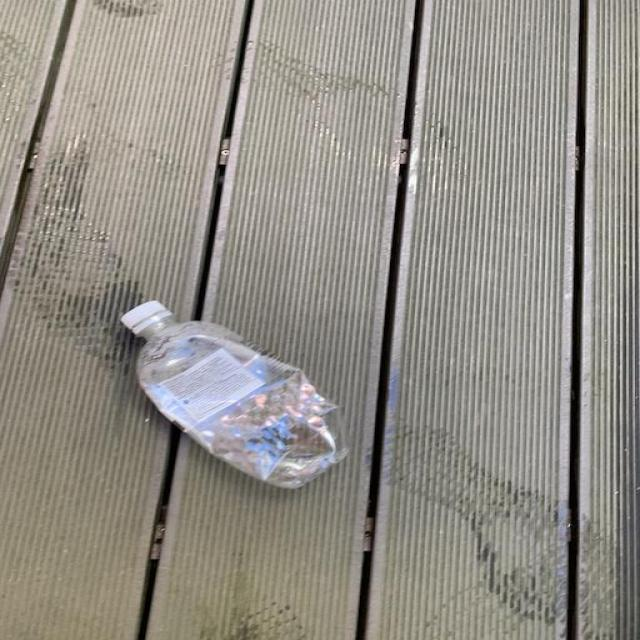chai: (122, 301, 347, 489)
